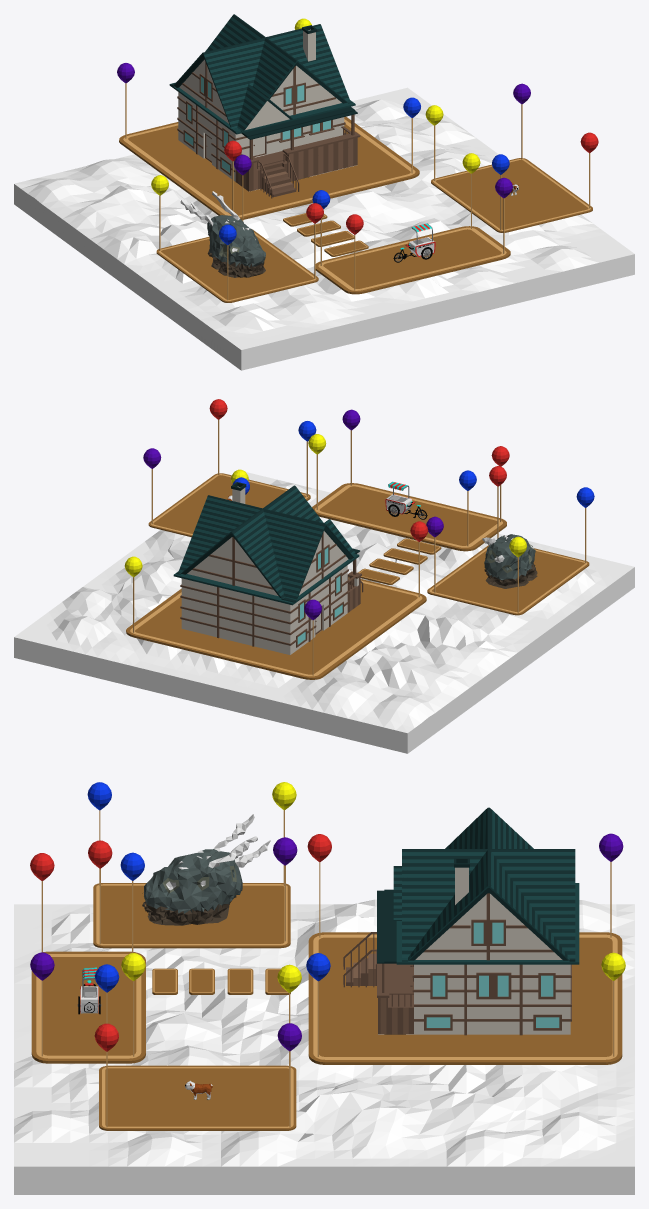
3 views of the same model, one above another, from view 1: azimuth 30°, elevation 25°; view 2: azimuth 150°, elevation 25°; view 3: azimuth 270°, elevation 25° (orthographic). The views are drawn at different scales.
Visible parts, largest first — view 1: Cube.013, Cube.793, OBJRANDOM_METEORITE, VEHICLES_SNOWBAL_BIKE; view 2: Cube.013, Cube.793, OBJRANDOM_METEORITE, VEHICLES_SNOWBAL_BIKE; view 3: Cube.013, Cube.793, OBJRANDOM_METEORITE, VEHICLES_SNOWBAL_BIKE.
Part boxes in pixels (x1,y1,x2,y2): Cube.013: (14, 18, 634, 370); Cube.793: (169, 14, 360, 198); OBJRANDOM_METEORITE: (180, 191, 265, 277); VEHICLES_SNOWBAL_BIKE: (393, 223, 435, 262); Cube.013: (14, 399, 634, 753); Cube.793: (173, 482, 363, 654); OBJRANDOM_METEORITE: (482, 534, 537, 588); VEHICLES_SNOWBAL_BIKE: (385, 481, 427, 519); Cube.013: (14, 782, 634, 1194); Cube.793: (343, 807, 579, 1035); OBJRANDOM_METEORITE: (142, 814, 270, 925); VEHICLES_SNOWBAL_BIKE: (77, 967, 101, 1014).
Bounding box in the file's own units: 4000 × 1666 × 4000.
Materials: 34 (2 with a texture image).
